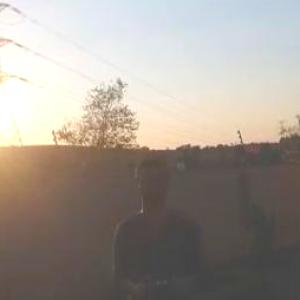follow: (109, 150, 202, 299)
